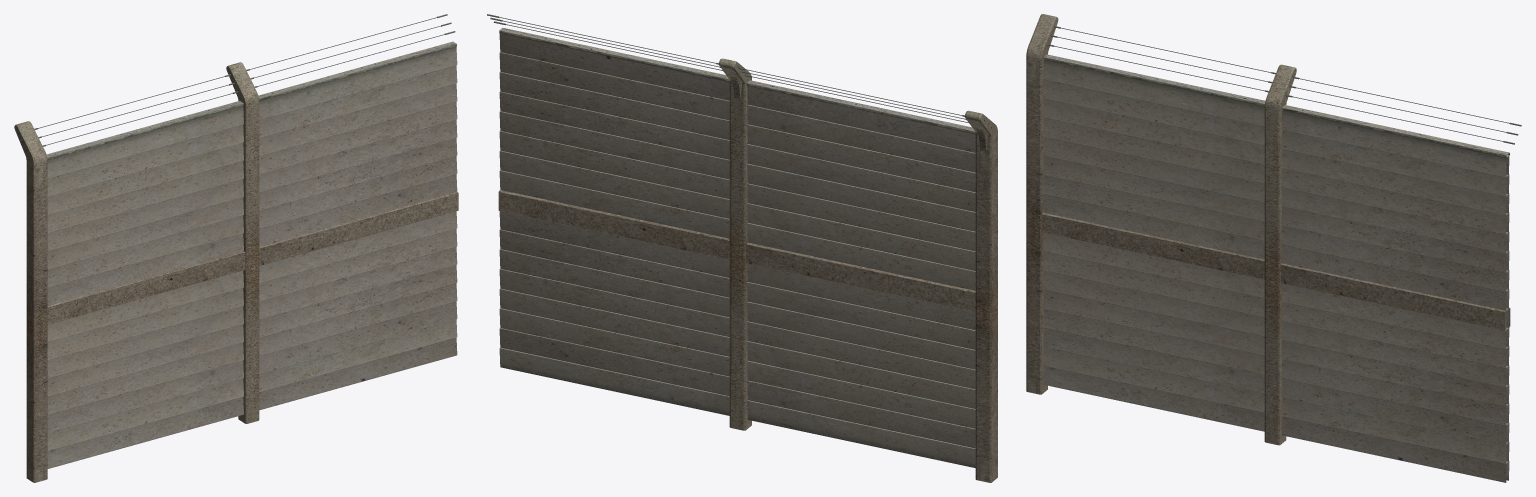
File: object_29.019_lev2.glb
The picture shows the model from 3 angles, left to right: view 1: azimuth 30°, elevation 25°; view 2: azimuth 150°, elevation 25°; view 3: azimuth 330°, elevation 25°; orthographic projection. The views are drawn at different scales.
Parts seen in each view (by area): view 1: object_29.019_lev2; view 2: object_29.019_lev2; view 3: object_29.019_lev2.
Part boxes in pixels (x1,y1,x2,y2): object_29.019_lev2: [14, 14, 458, 482]; object_29.019_lev2: [487, 14, 997, 482]; object_29.019_lev2: [1026, 14, 1521, 482].
Size of the model in its own units: 14.64 by 10.91 by 1.66.
Materials: 1 (1 with a texture image).
